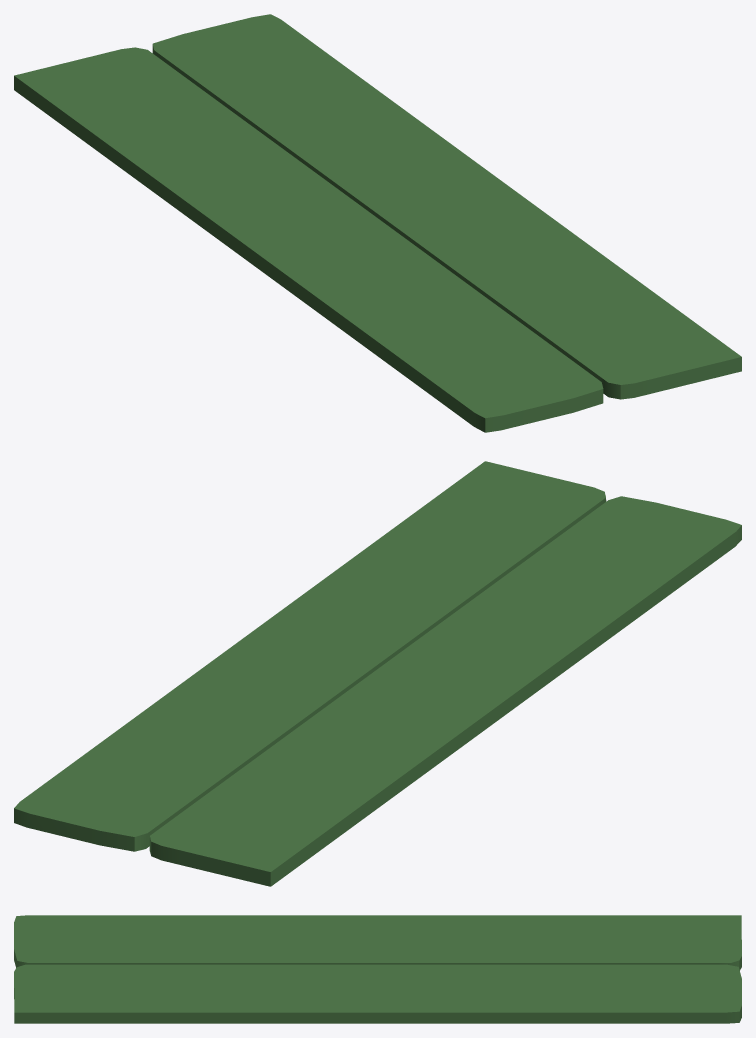
Rendered from Shelf_Grp_04A_Lod0.fbx.
The picture shows the model from 3 angles, top to bottom: view 1: azimuth 30°, elevation 25°; view 2: azimuth 150°, elevation 25°; view 3: azimuth 270°, elevation 25°; orthographic projection. The views are drawn at different scales.
Visible parts, largest first — view 1: Shelf_Grp_04A_Lod0; view 2: Shelf_Grp_04A_Lod0; view 3: Shelf_Grp_04A_Lod0.
Boxes of the visible parts, <box> form: Shelf_Grp_04A_Lod0: <box>14,14,741,432</box>; Shelf_Grp_04A_Lod0: <box>14,461,741,886</box>; Shelf_Grp_04A_Lod0: <box>14,915,741,1023</box>.
Bounding box in the file's own units: 69.61 × 3.75 × 220.
